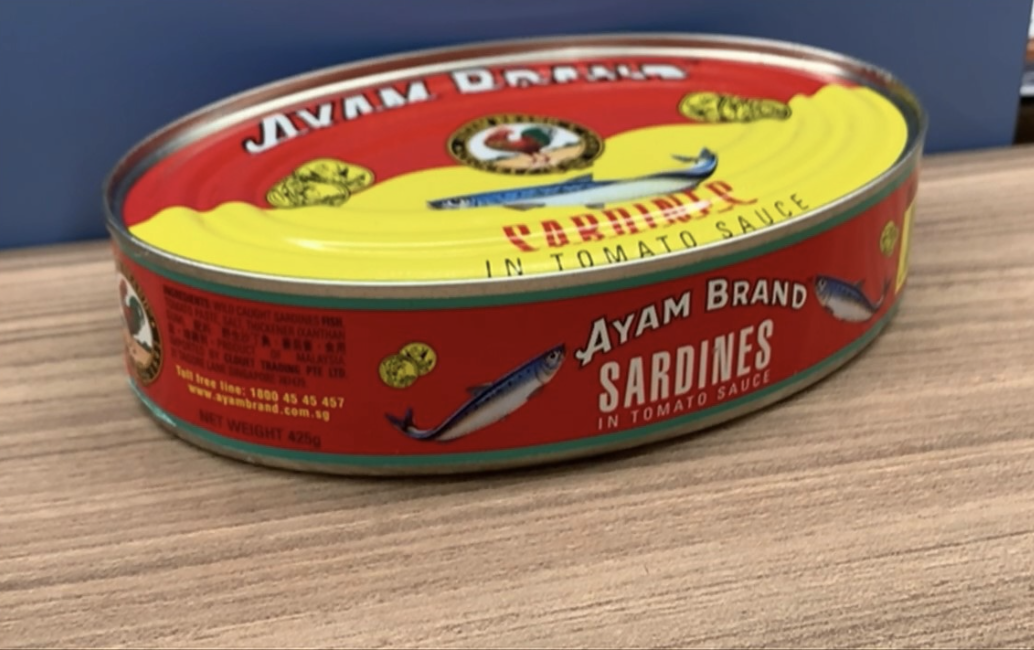sardines_400g-499g: (181, 73, 820, 428)
